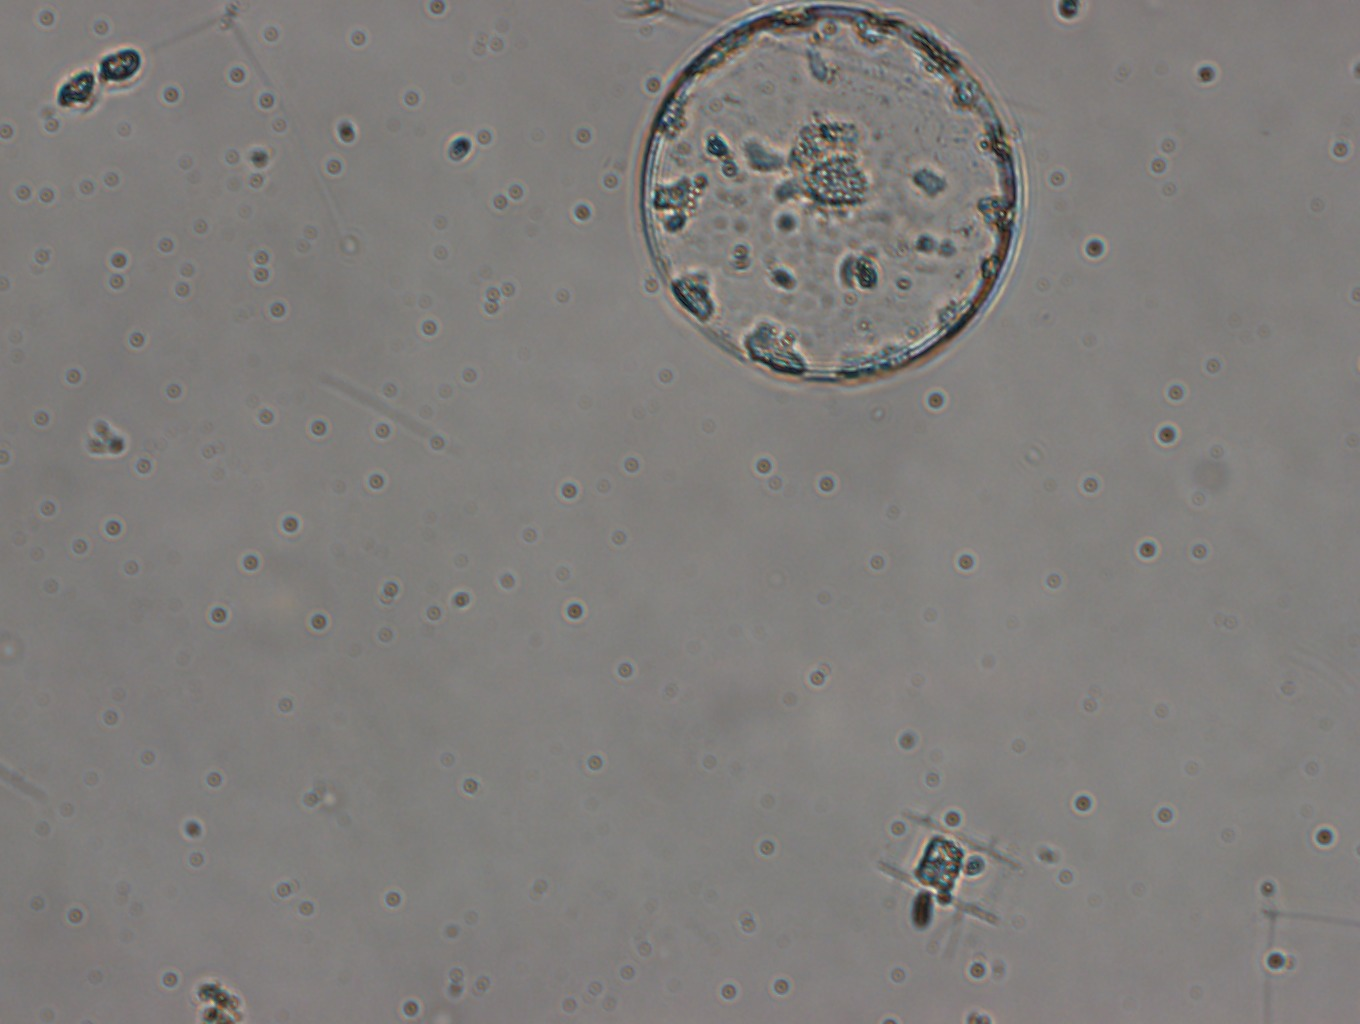coscinodiscus: (638, 1, 1023, 393)
